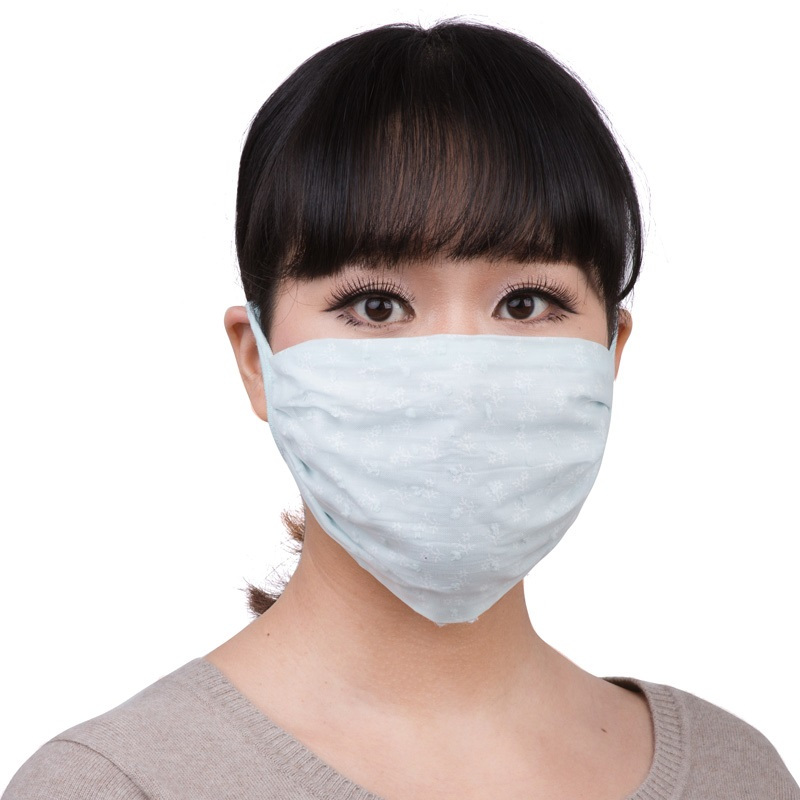face_mask: (277, 141, 618, 569)
